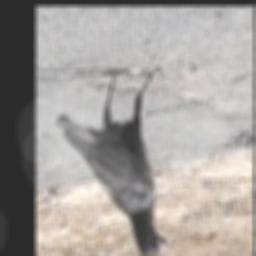Crow: (56, 67, 166, 256)
